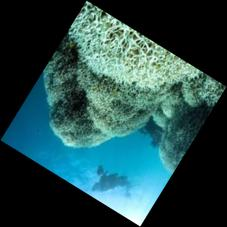bleached_corals: (58, 2, 191, 113)
